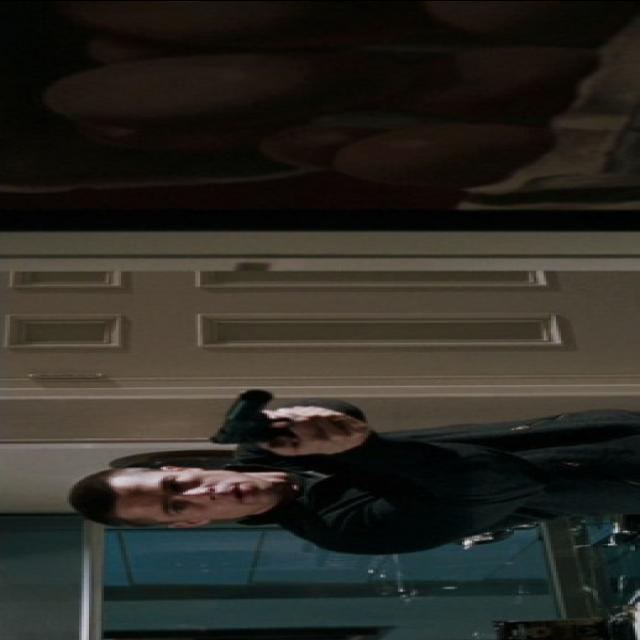weapons: (188, 378, 380, 461)
